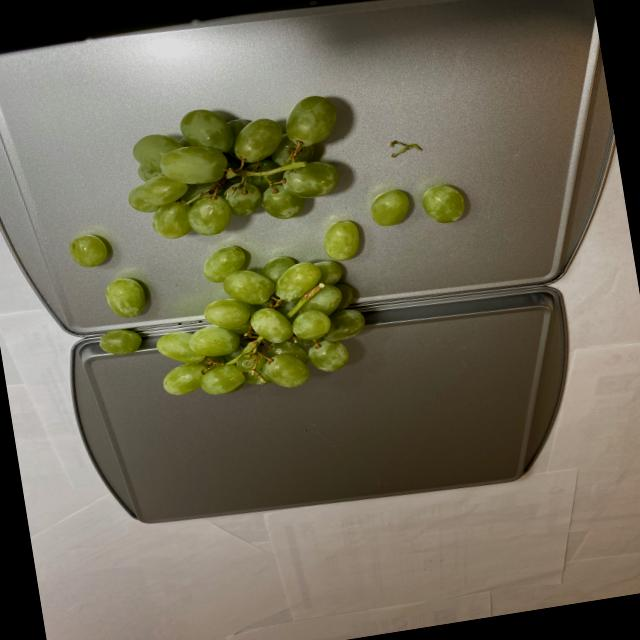grapes: (54, 68, 492, 416)
